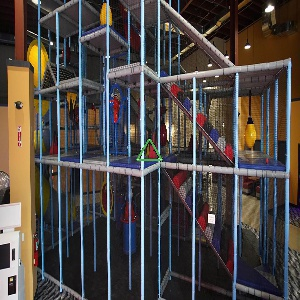triangle: (136, 139, 165, 164)
